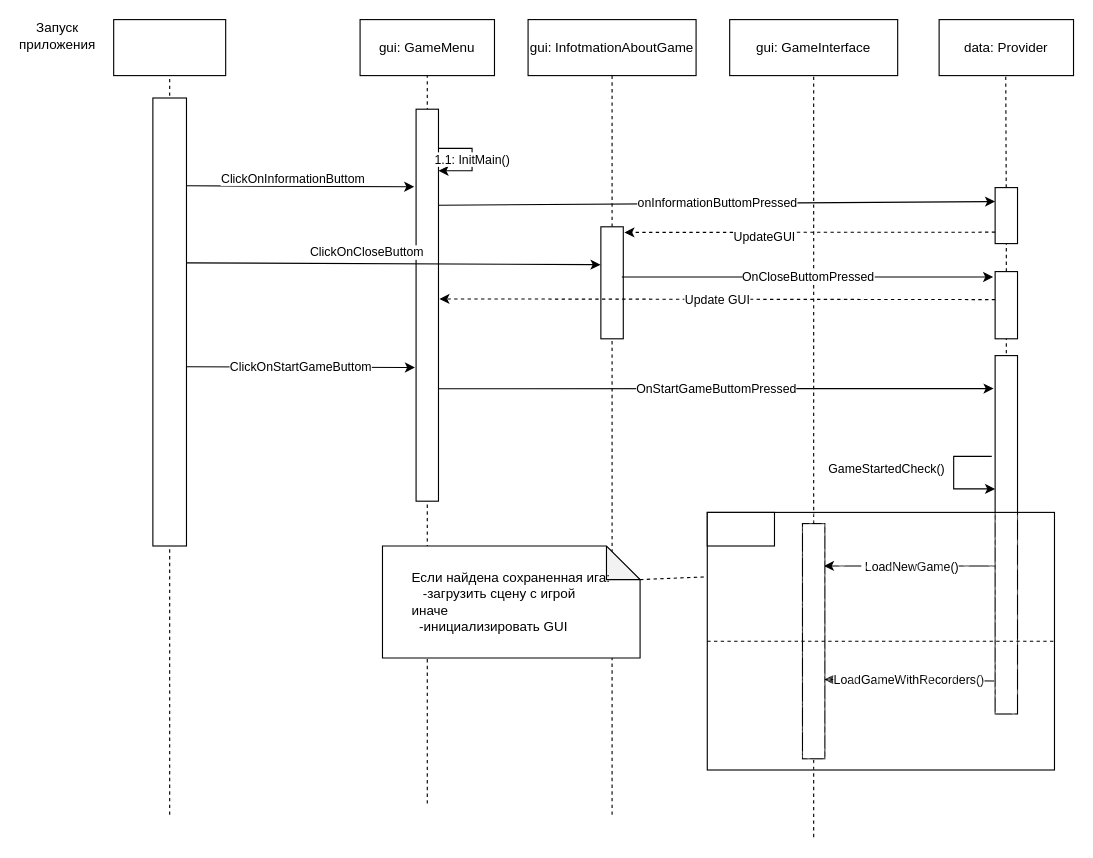
Image size: 1093x858. Some labels were removed from this diagram. Here are the shapes that lost their labels. From the top down, the centre of each, then its label:
pixel 169 47: player: Player
pixel 740 528: alt
